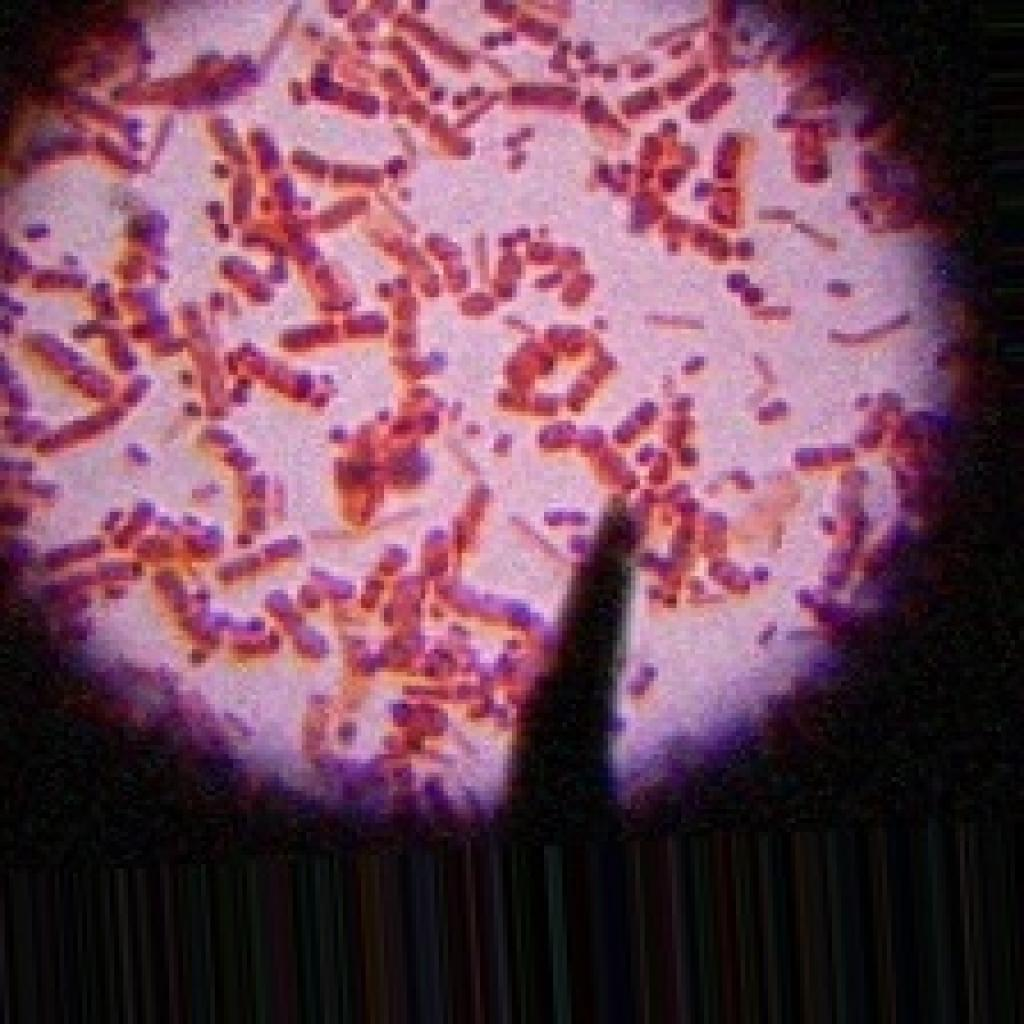Sprialbacteria: (0, 0, 987, 836)
